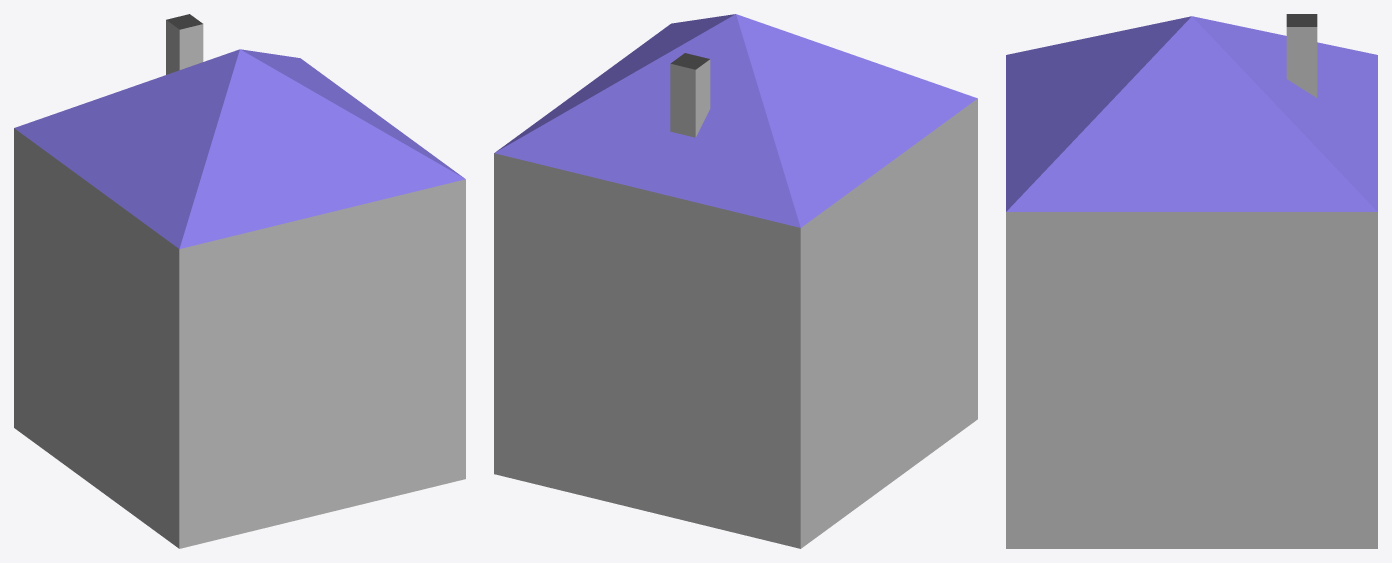
File: simpleHouse.fbx
The picture shows the model from 3 angles, left to right: view 1: azimuth 30°, elevation 25°; view 2: azimuth 150°, elevation 25°; view 3: azimuth 270°, elevation 25°; orthographic projection. The views are drawn at different scales.
Parts seen in each view (by area): view 1: Cube.001, Cube.002; view 2: Cube.001, Cube.002; view 3: Cube.001, Cube.002.
Boxes of the visible parts, <box> form: Cube.001: <box>14,49,465,548</box>; Cube.002: <box>166,14,203,74</box>; Cube.001: <box>494,14,977,548</box>; Cube.002: <box>670,53,710,137</box>; Cube.001: <box>1006,16,1377,548</box>; Cube.002: <box>1286,14,1317,97</box>.
Bounding box in the file's own units: 325 × 438 × 325.
